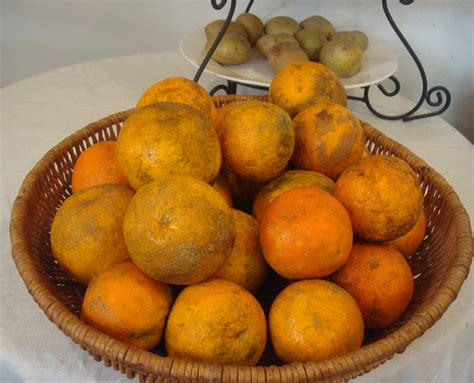orange: (119, 172, 234, 284), (162, 277, 274, 369), (114, 97, 227, 188), (332, 153, 427, 247), (81, 260, 173, 357), (257, 186, 353, 274), (269, 279, 368, 363), (44, 183, 137, 267), (213, 90, 295, 185), (289, 102, 368, 179), (263, 60, 350, 119)
